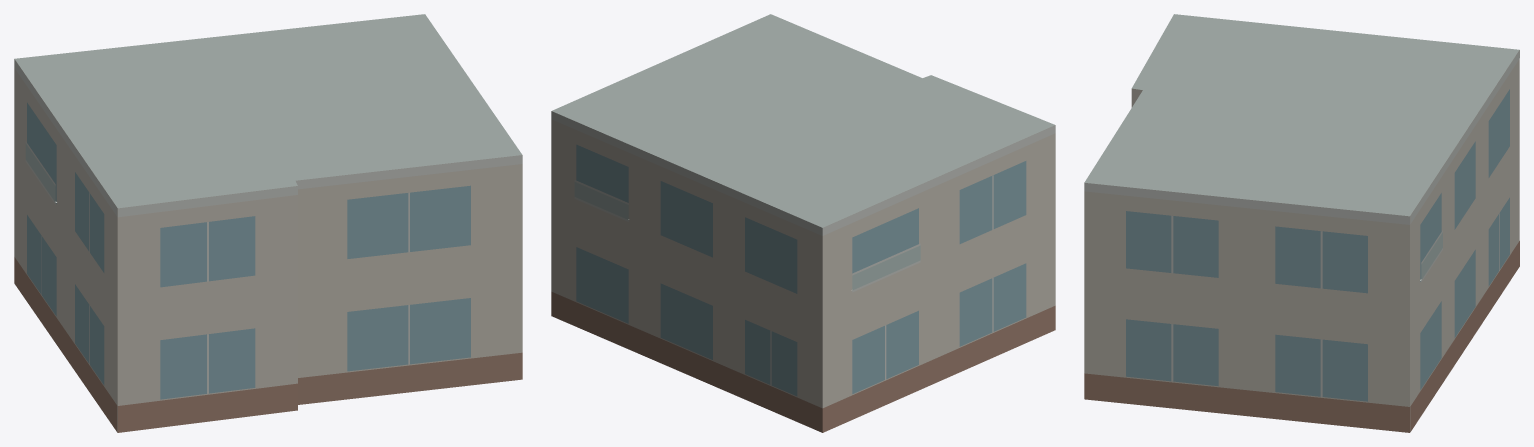
The model's file is survey-upis-32787965.glb.
The picture shows the model from 3 angles, left to right: view 1: azimuth 30°, elevation 25°; view 2: azimuth 150°, elevation 25°; view 3: azimuth 270°, elevation 25°; orthographic projection. The views are drawn at different scales.
Parts seen in each view (by area): view 1: survey-upis-32787965.tmp; view 2: survey-upis-32787965.tmp; view 3: survey-upis-32787965.tmp.
Boxes of the visible parts, <box> form: survey-upis-32787965.tmp: <box>14,14,522,432</box>; survey-upis-32787965.tmp: <box>551,14,1055,432</box>; survey-upis-32787965.tmp: <box>1084,14,1519,432</box>.
Size of the model in its own units: 12.23 by 6.1 by 11.13.
